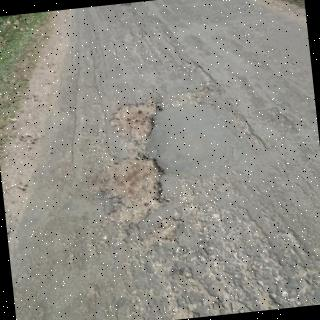pothole: (108, 102, 164, 242)
